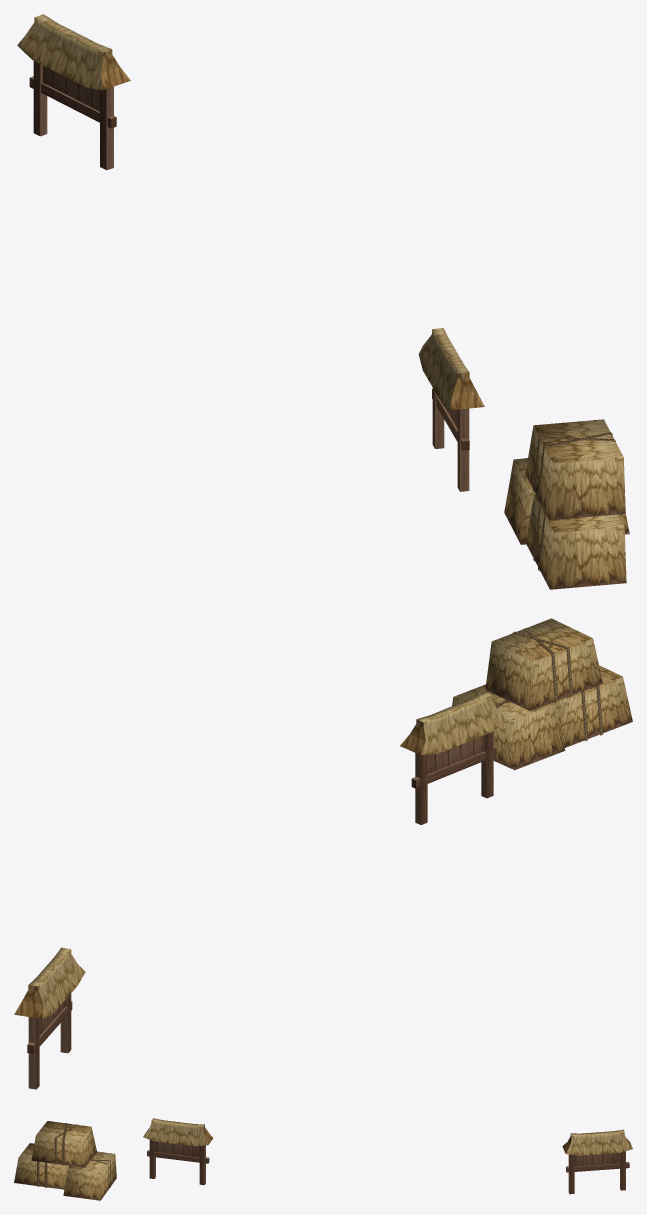
The model's file is Area_08_8.fbx.
3 views of the same model, one above another, from view 1: azimuth 30°, elevation 25°; view 2: azimuth 150°, elevation 25°; view 3: azimuth 270°, elevation 25° (orthographic). The views are drawn at different scales.
Visible parts, largest first — view 1: Area_08_8; view 2: Area_08_8; view 3: Area_08_8.
Part boxes in pixels (<box>): Area_08_8: <box>17,14,629,589</box>; Area_08_8: <box>14,618,632,1089</box>; Area_08_8: <box>14,1118,632,1200</box>.
Bounding box in the file's own units: 353 × 287 × 2755.
